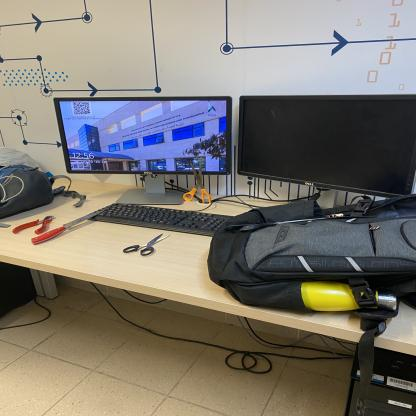Knife: (29, 208, 108, 245)
scissors: (223, 214, 330, 233), (181, 158, 212, 205), (122, 233, 171, 256)
